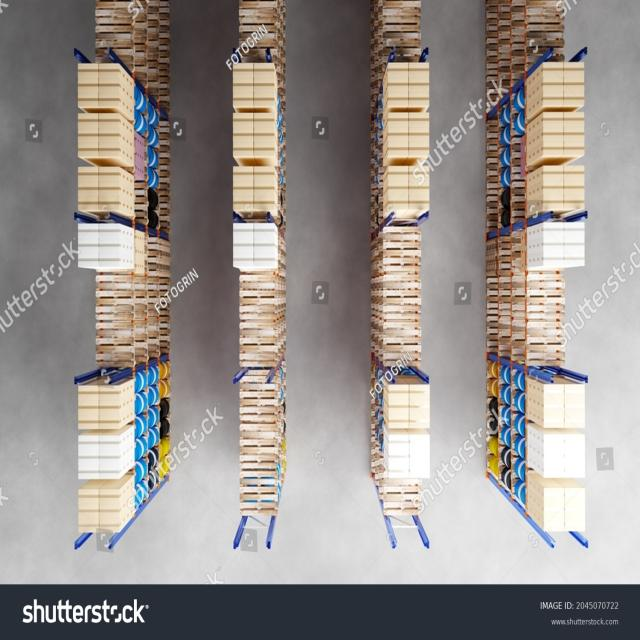box: (76, 116, 130, 165), (78, 62, 124, 112), (232, 165, 279, 213), (233, 112, 278, 162), (78, 487, 126, 533), (77, 224, 126, 269), (544, 432, 586, 484), (542, 489, 591, 533), (78, 436, 128, 479), (76, 169, 124, 213), (234, 223, 278, 271), (542, 224, 586, 270), (78, 385, 124, 428), (388, 64, 431, 110), (542, 165, 585, 211), (388, 436, 432, 480), (542, 112, 585, 157), (233, 63, 274, 110), (388, 113, 431, 157), (387, 169, 429, 214), (544, 63, 586, 108), (541, 386, 585, 428), (388, 385, 430, 428)
